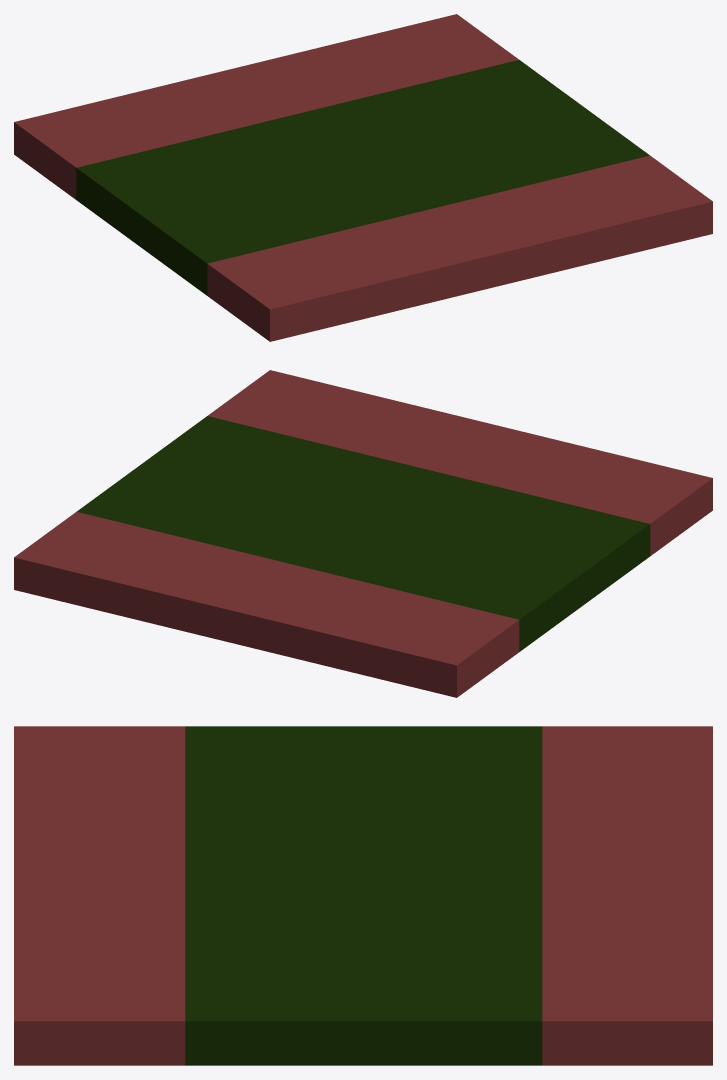
Rendered from OutdoorPath.fbx.
3 renders of one model, top to bottom at view 1: azimuth 30°, elevation 25°; view 2: azimuth 150°, elevation 25°; view 3: azimuth 270°, elevation 25°, orthographic. The views are drawn at different scales.
Visible parts, largest first — view 1: Cube; view 2: Cube; view 3: Cube.
Part boxes in pixels (<box>): Cube: <box>14,14,712,341</box>; Cube: <box>14,370,712,697</box>; Cube: <box>14,726,712,1065</box>.
Bounding box in the file's own units: 978 × 68.46 × 980.
